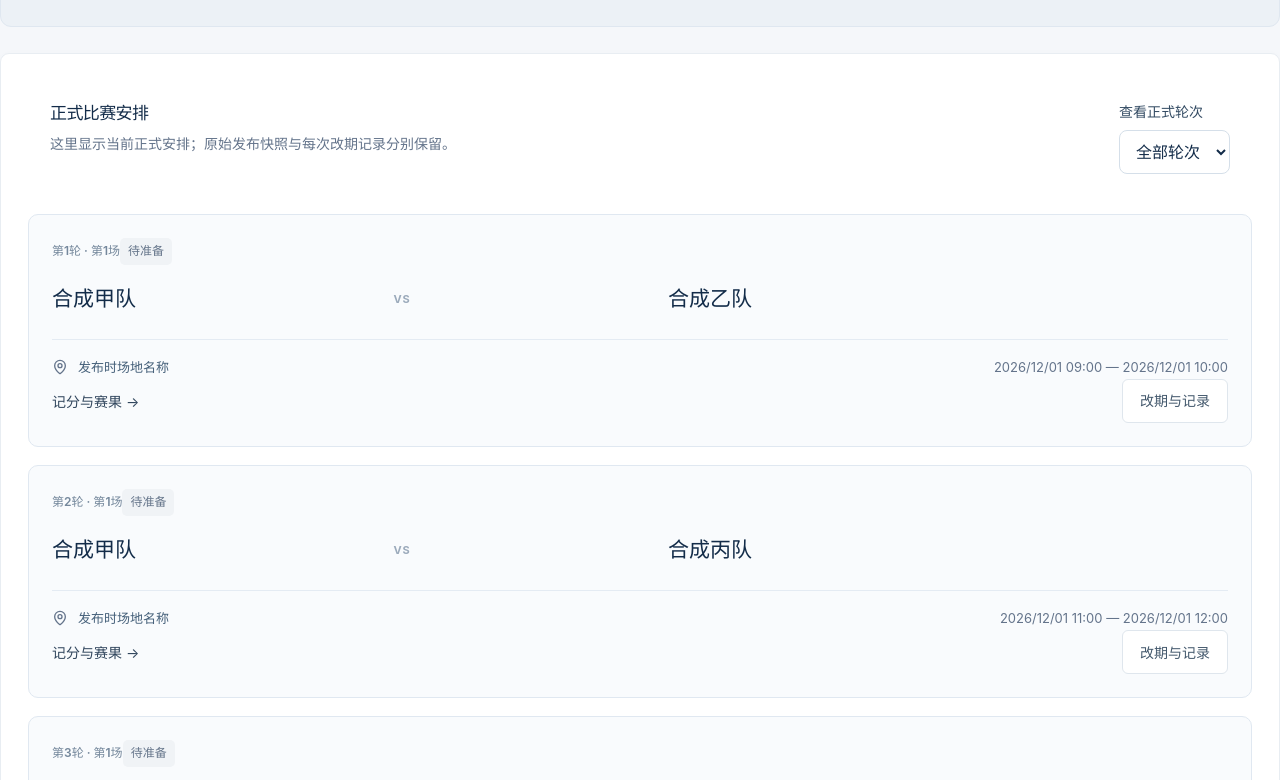
正式安排中的改期入口 › 关闭内联记录后焦点回到原场次入口，不产生写入
(page scrolled)
Click the button with aria-label "第1轮第1场 改期与记录": coordinates (1175, 401) [1122,379,1228,423]
(page scrolled)
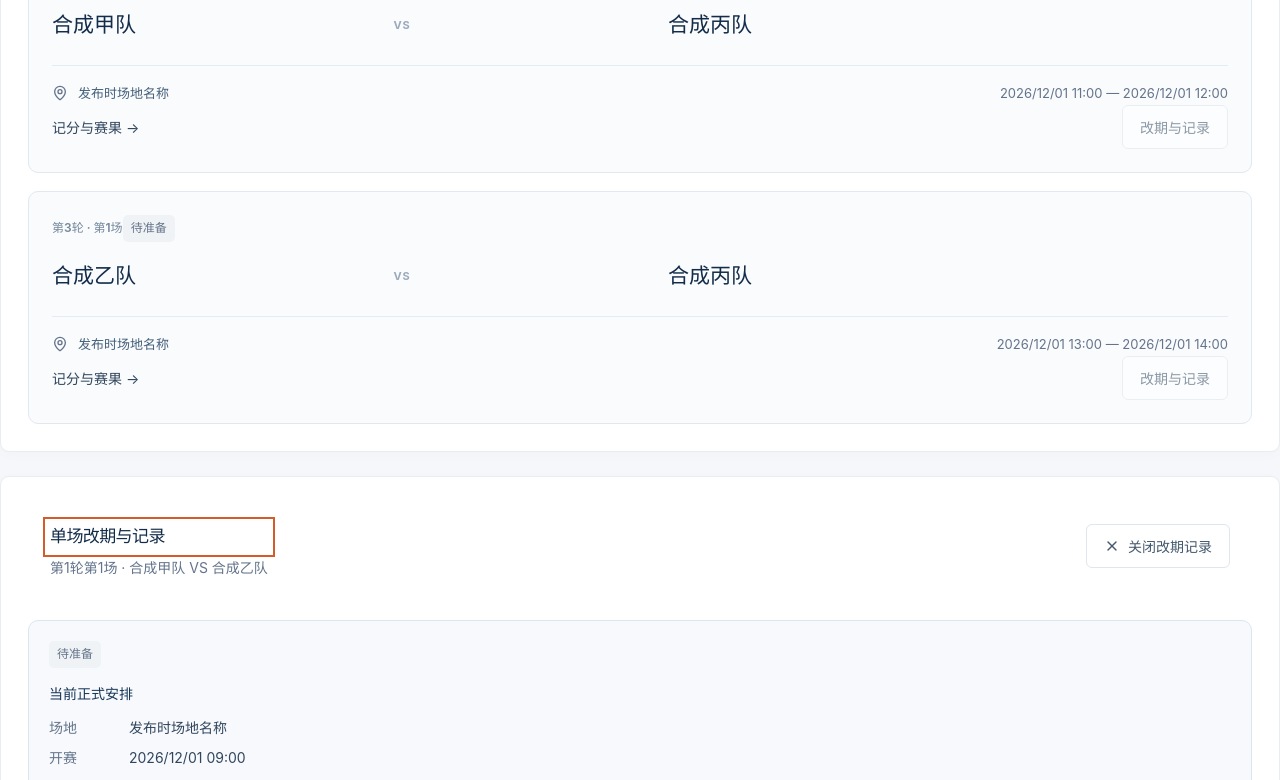
Click the button "关闭改期记录": coordinates (1158, 546) [1086,524,1230,568]
(page scrolled)
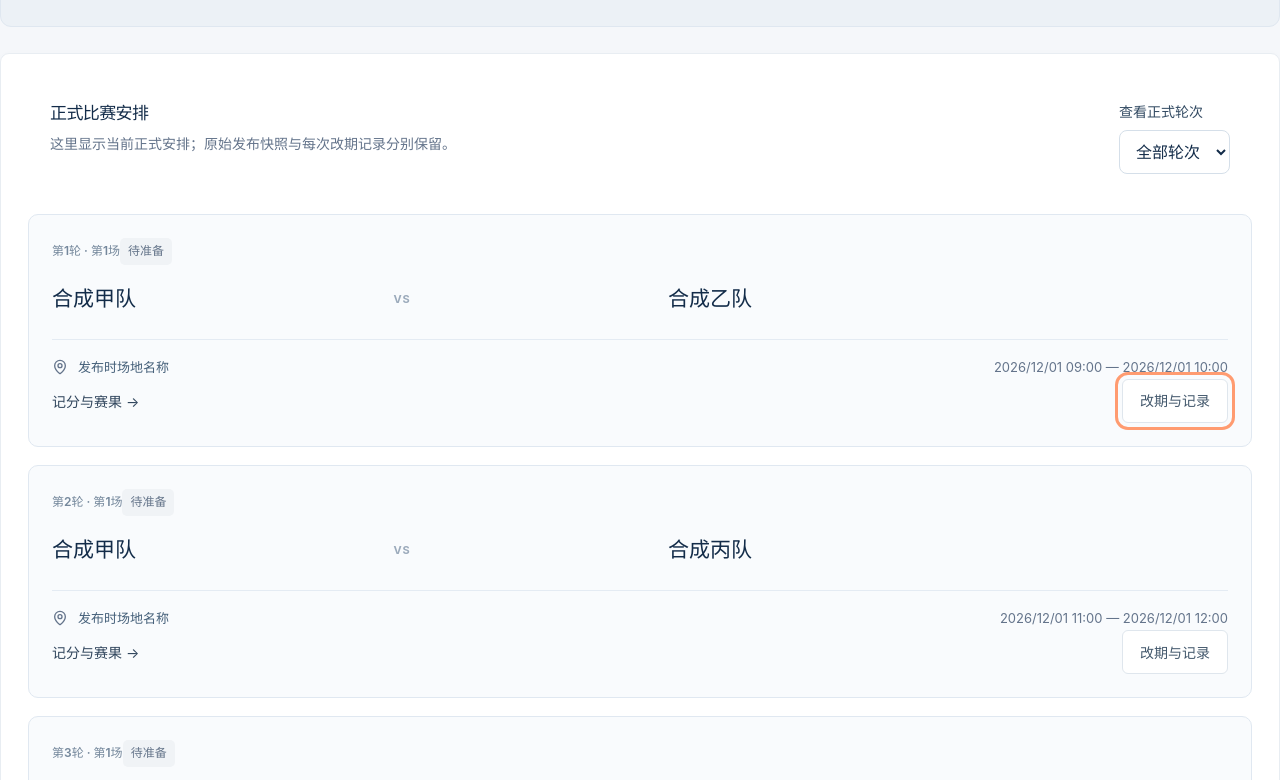
Expected: the heading "单场改期与记录" is gone
